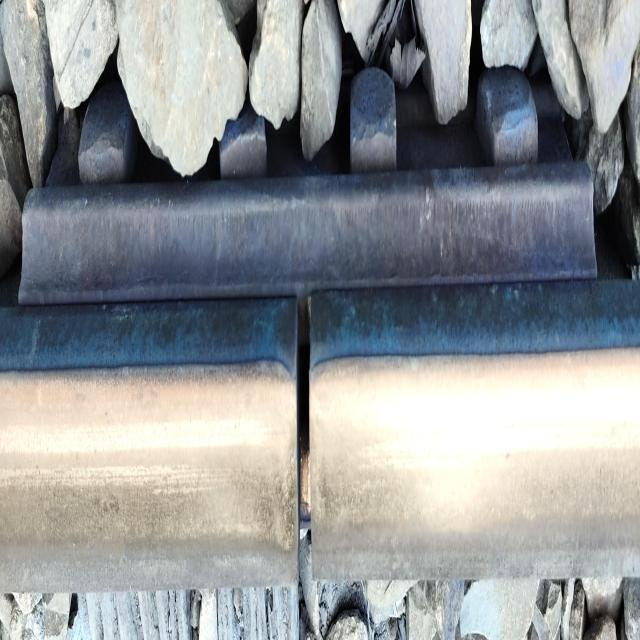Good Joint: (18, 55, 597, 299)
